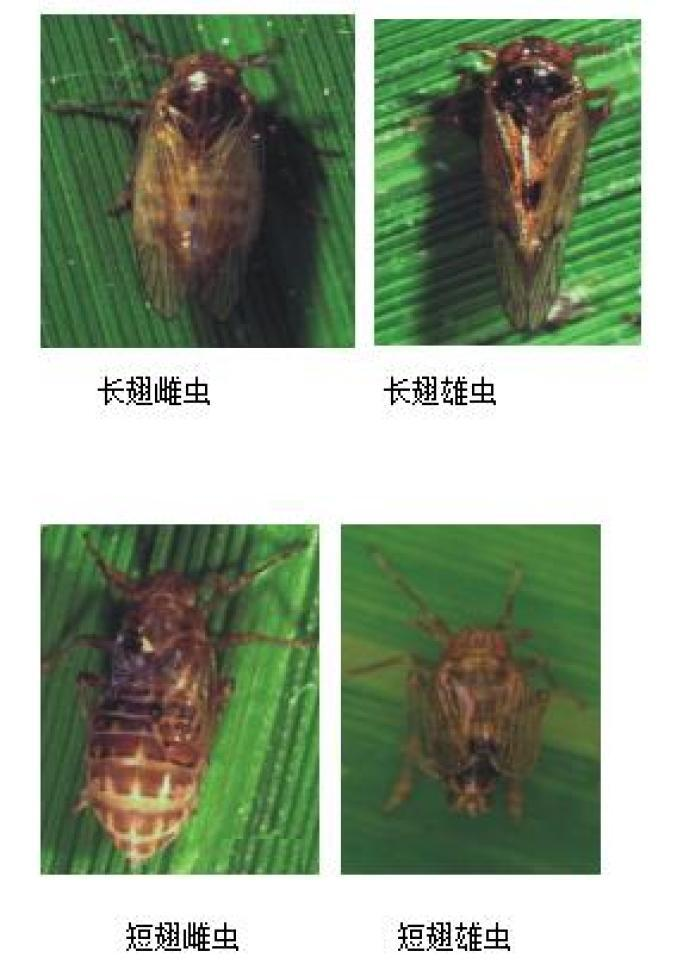Delphacidae: (45, 16, 344, 320), (46, 531, 314, 867), (346, 539, 589, 822), (400, 31, 617, 333)
